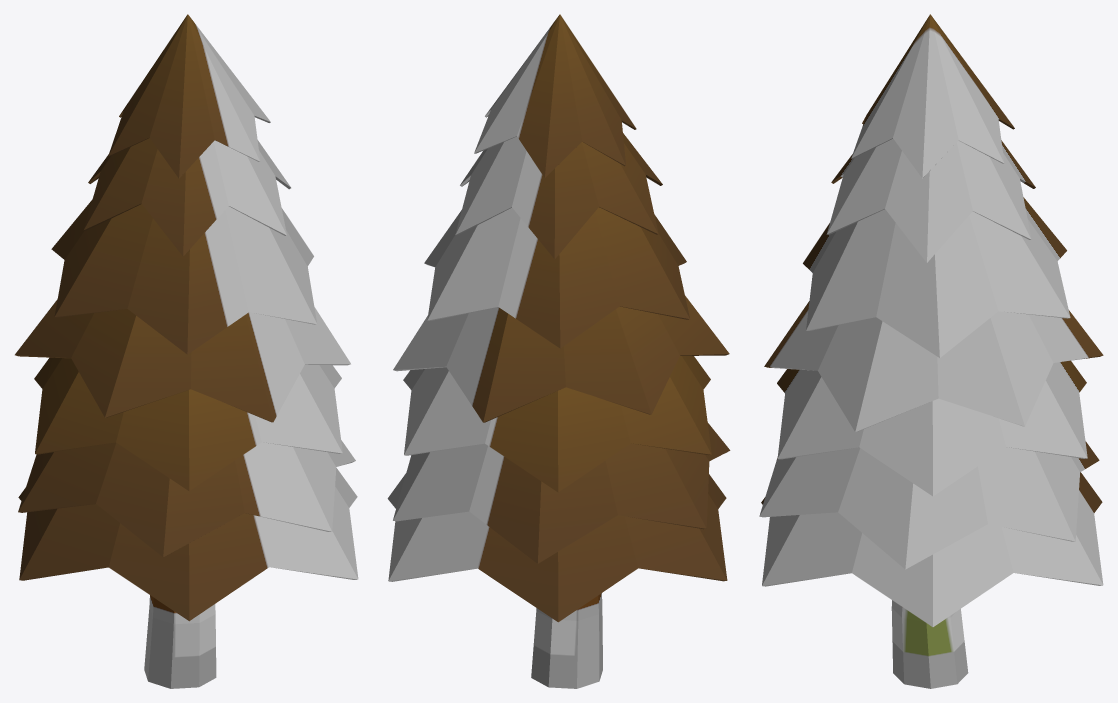
Rendered from Tree_22.fbx.
3 views of the same model, side by side, from view 1: azimuth 30°, elevation 25°; view 2: azimuth 150°, elevation 25°; view 3: azimuth 270°, elevation 25° (orthographic).
Parts seen in each view (by area): view 1: Tree_22; view 2: Tree_22; view 3: Tree_22.
Part boxes in pixels (x1,y1,x2,y2): Tree_22: (15, 14, 358, 688); Tree_22: (387, 14, 730, 688); Tree_22: (759, 14, 1103, 688).
Bounding box in the file's own units: 5.37 × 9.96 × 4.69.
